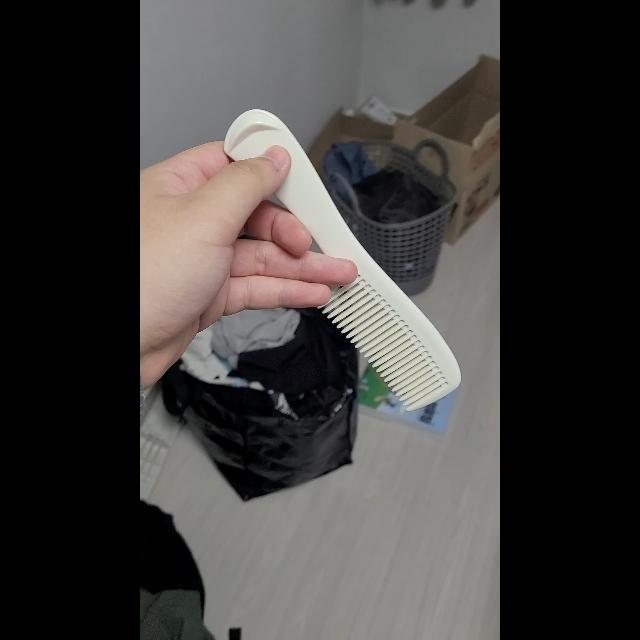COMB: (225, 110, 461, 412)
